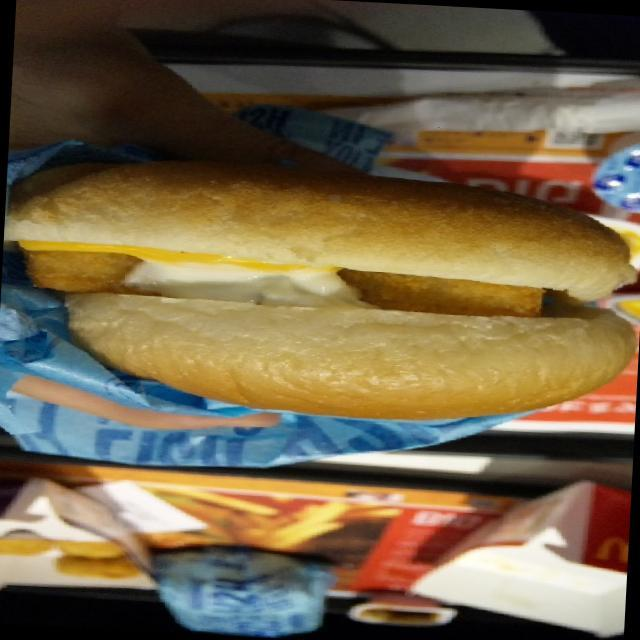Hamburger: (9, 126, 640, 434)
